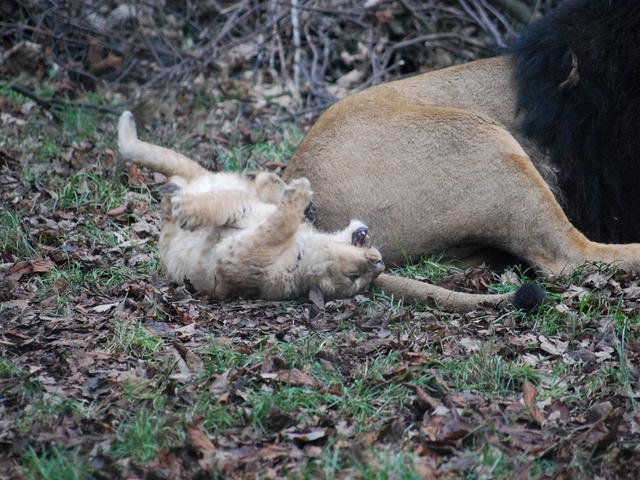lion: (252, 16, 640, 303), (65, 89, 433, 332)
